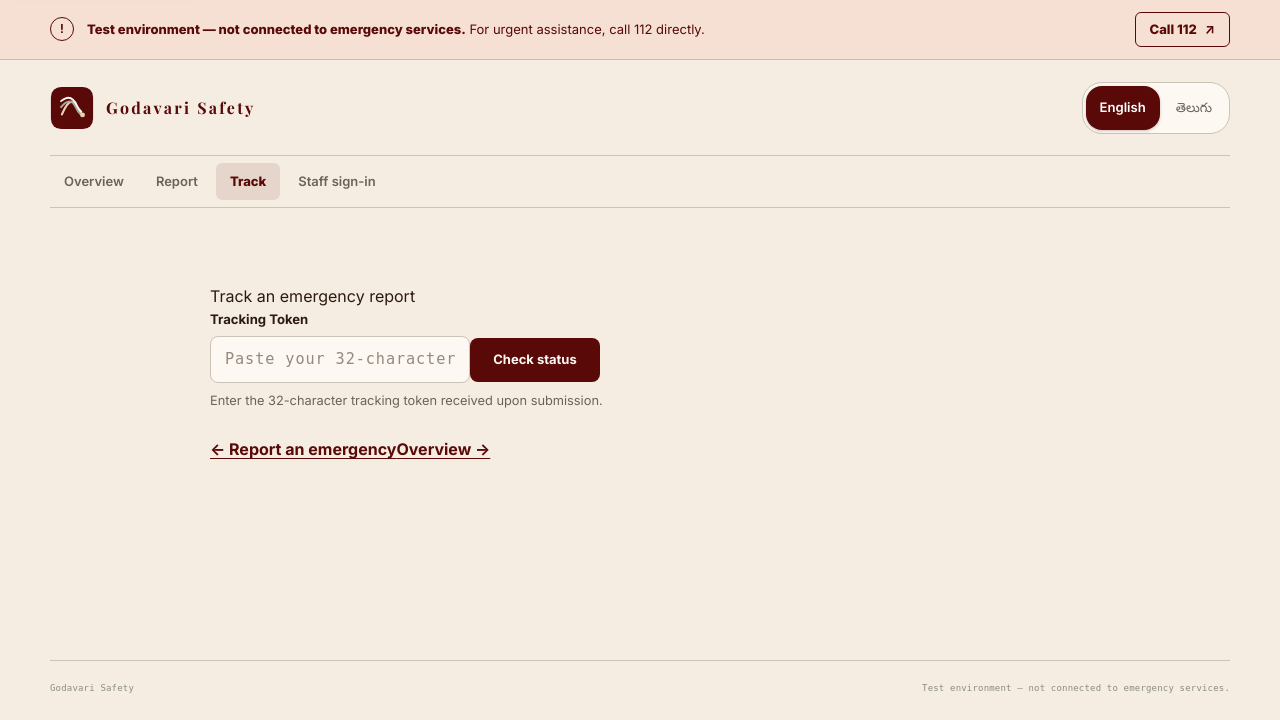
Test: role-aware staff screens › Stage 10: public tracking page displays honest error when tracking token is invalid or not found
In the field with placeholder "Paste your 32-character tracking token…": coordinates (340, 360) [210,336,470,383], type "00000000000000000000000000000000"
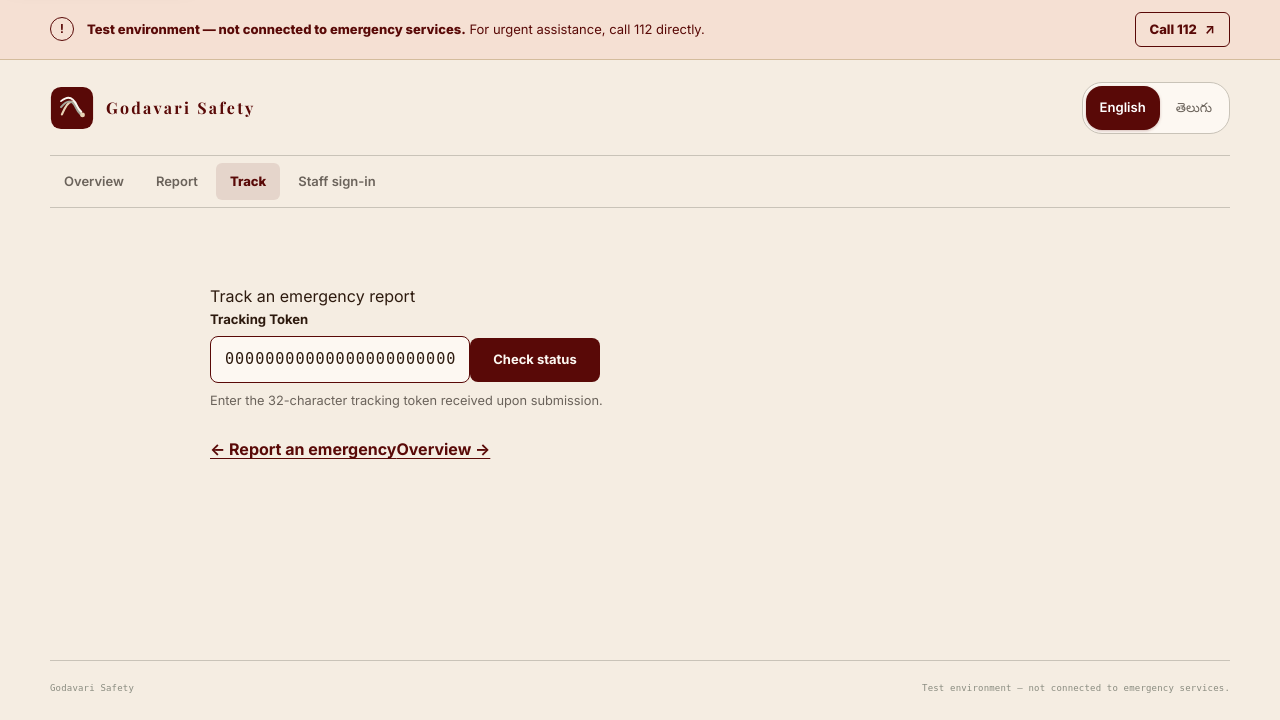
Click the button "Check status": coordinates (535, 360) [470,338,600,382]
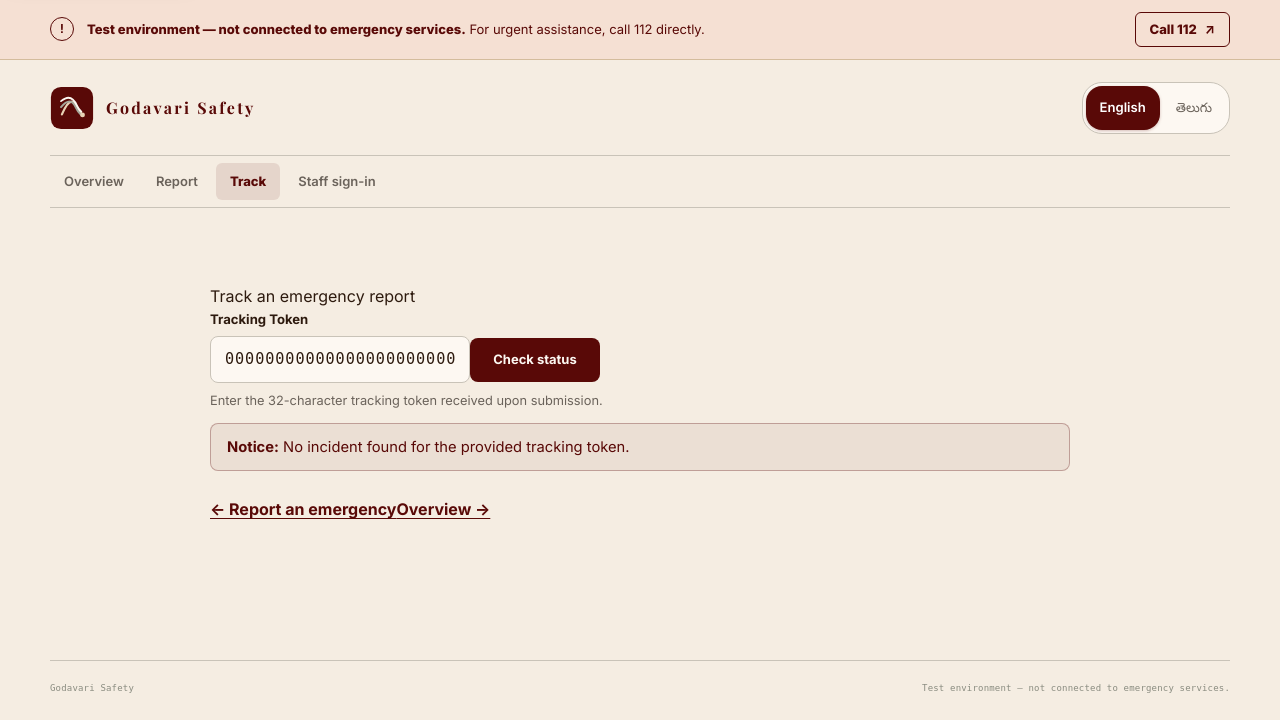
Expected: the text "Notice: No incident found for the provided tracking token." is shown, [210,423,1070,471]
